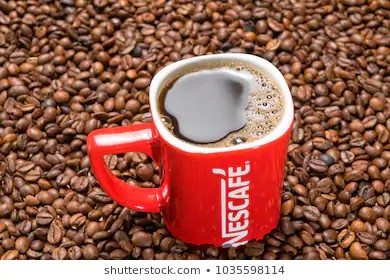nescafe-mug: (88, 44, 298, 245)
